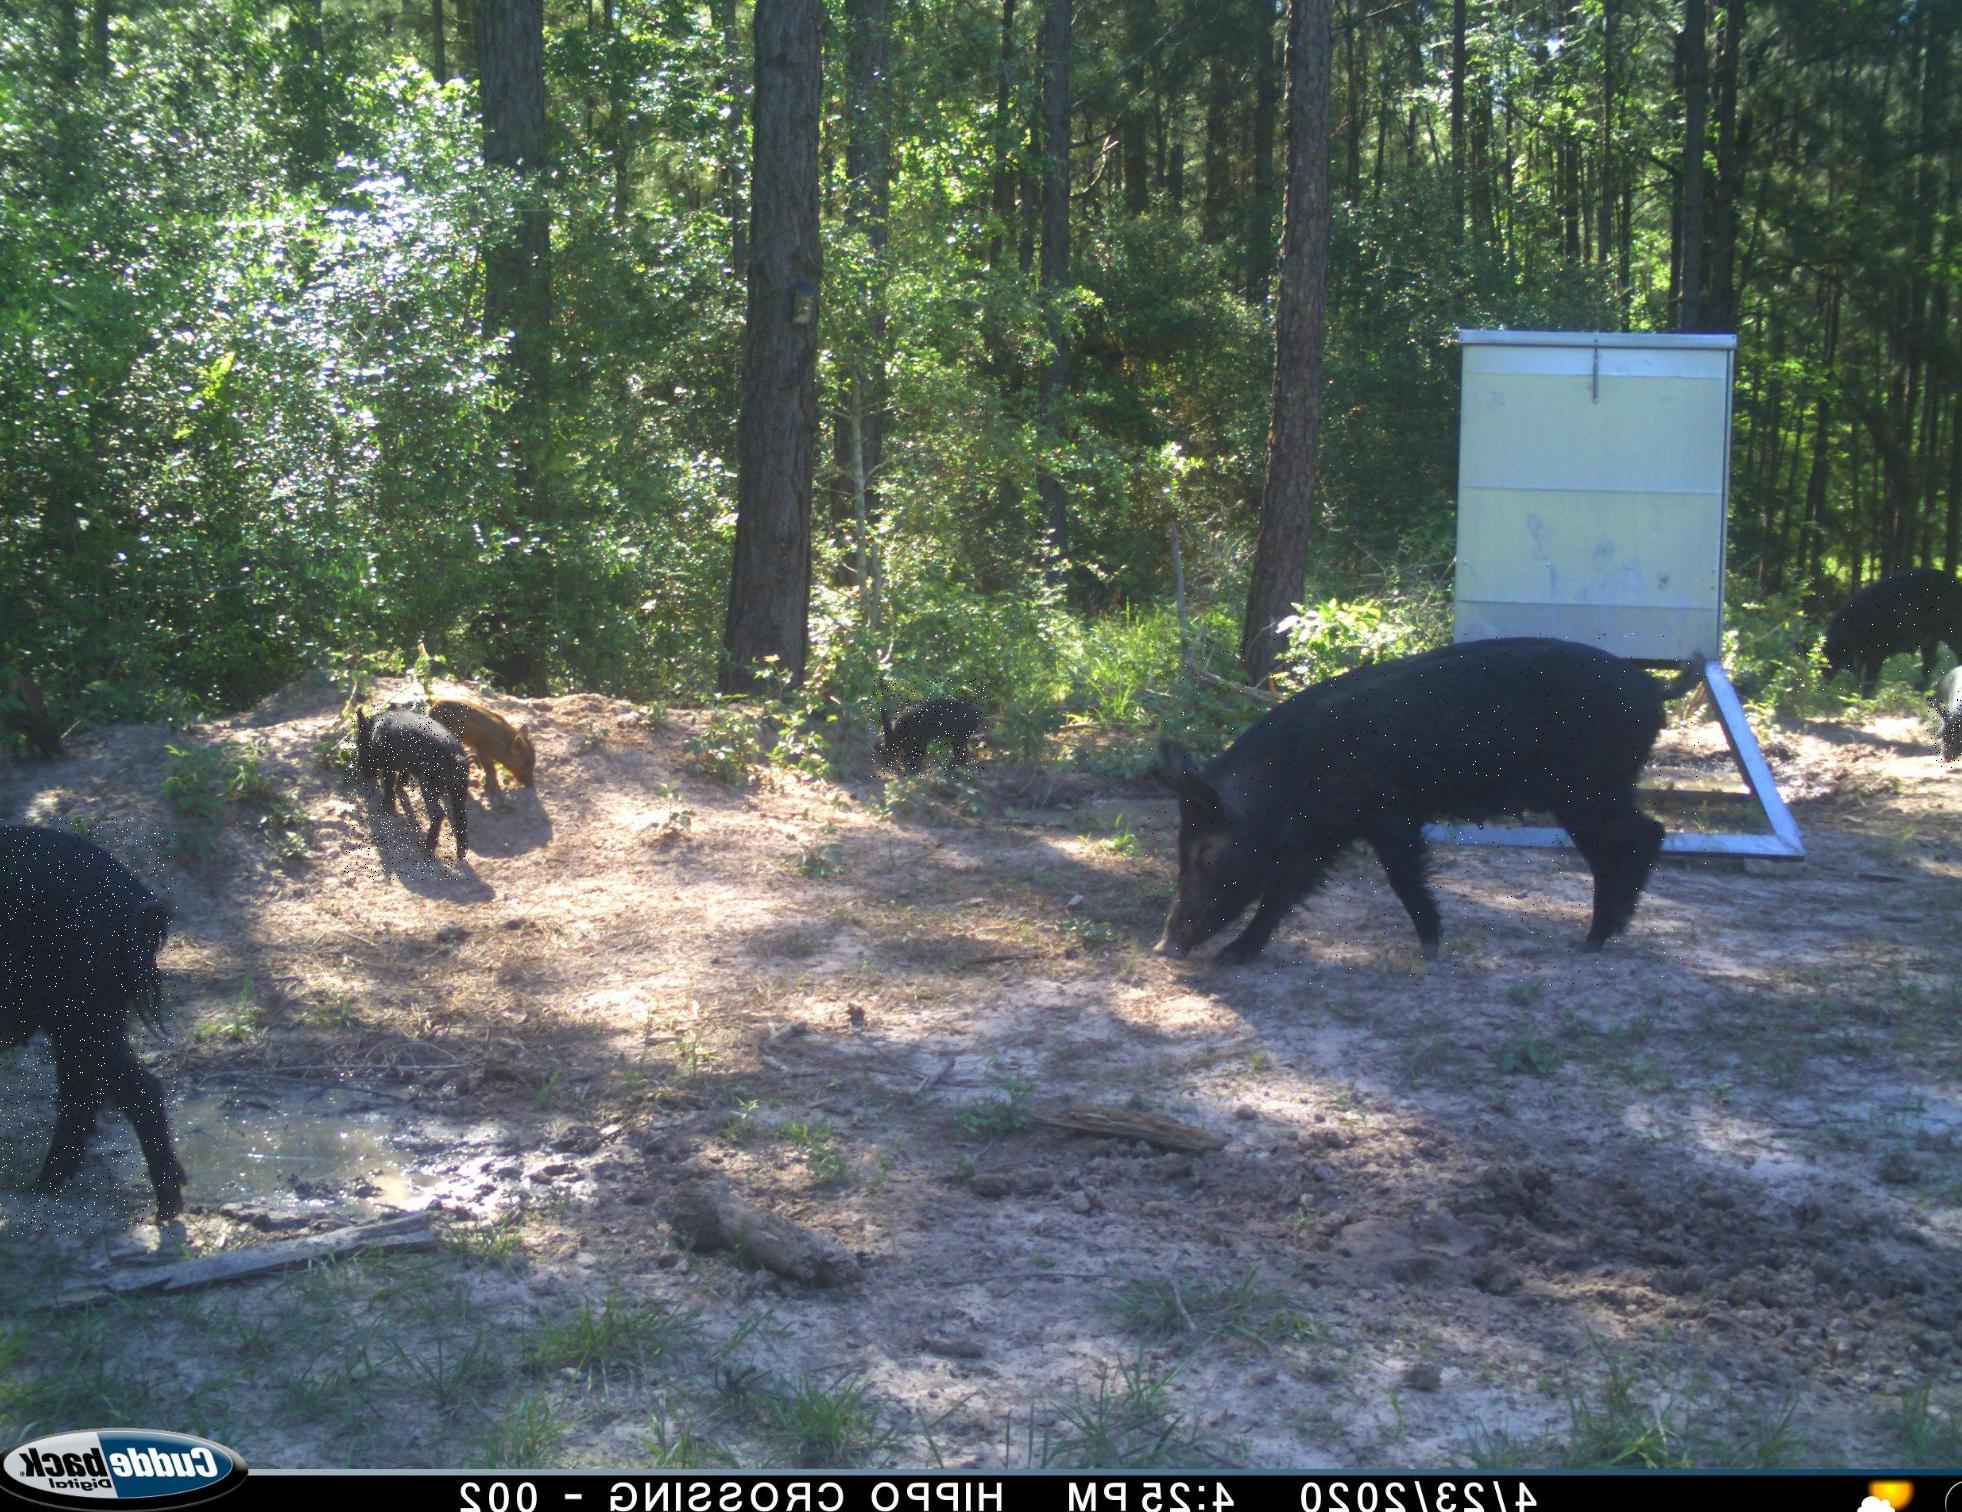Hog: (1145, 631, 1706, 986), (0, 818, 176, 1236), (1797, 562, 1962, 697), (345, 704, 469, 880), (869, 680, 987, 778), (429, 700, 553, 788), (1927, 661, 1962, 769)
